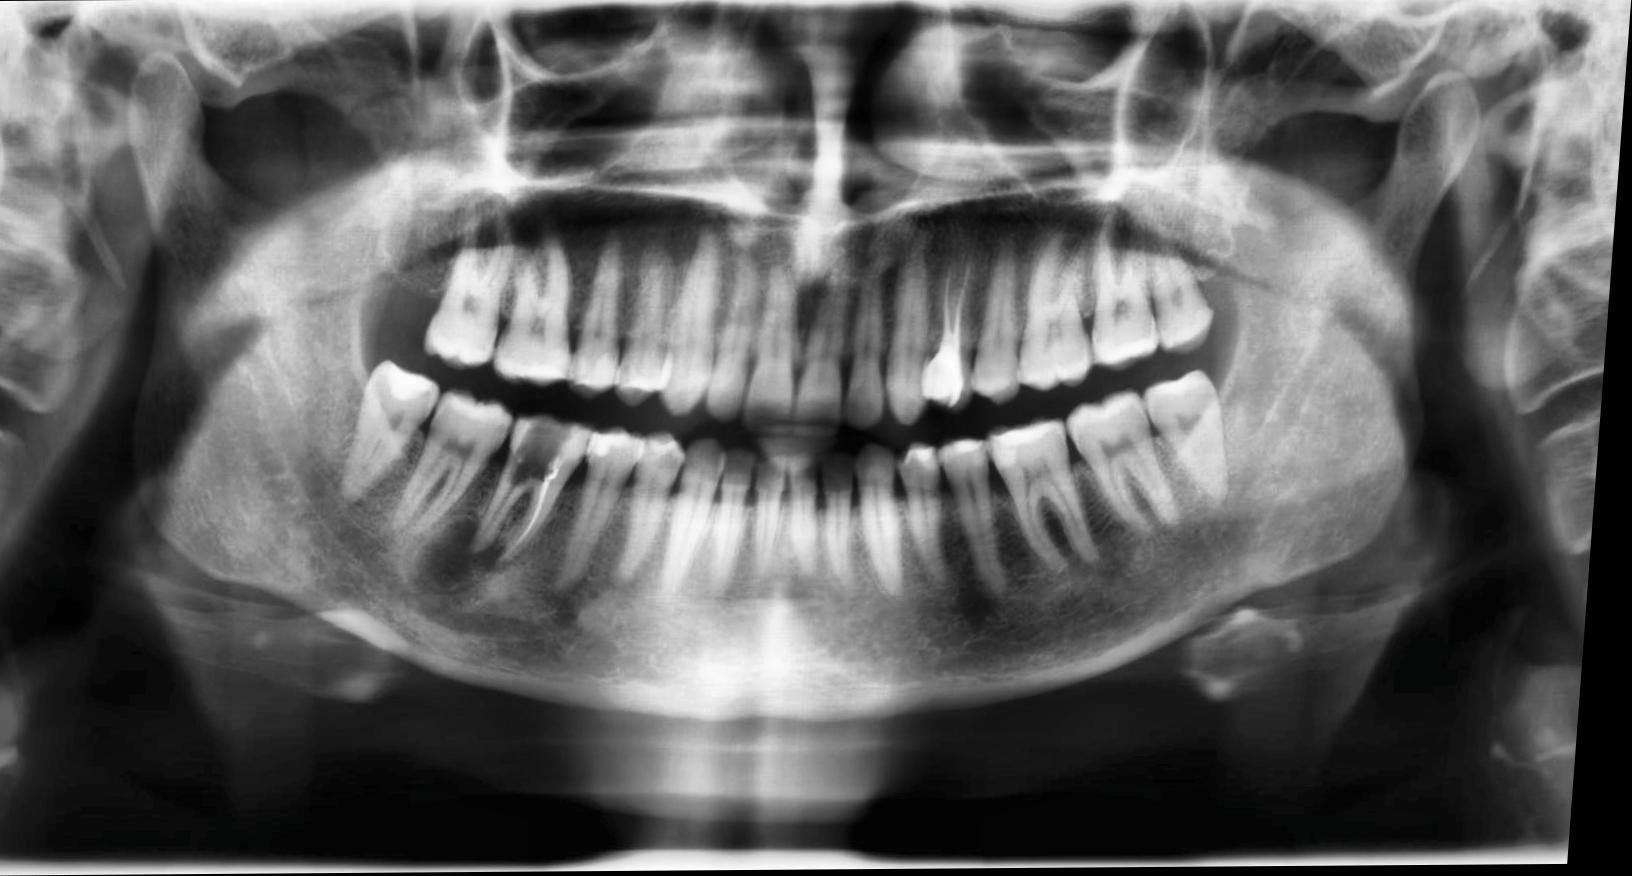radikuler: (418, 516, 519, 597)
